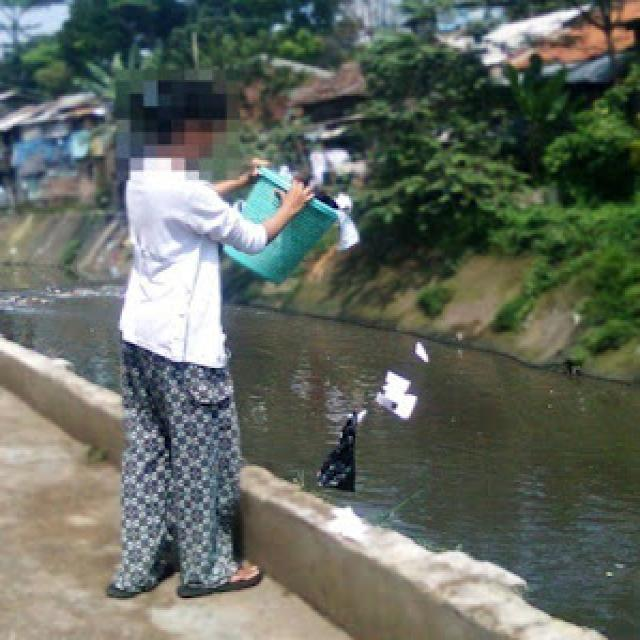sampah-detection: (310, 418, 364, 498), (368, 365, 427, 427), (320, 185, 367, 261)
